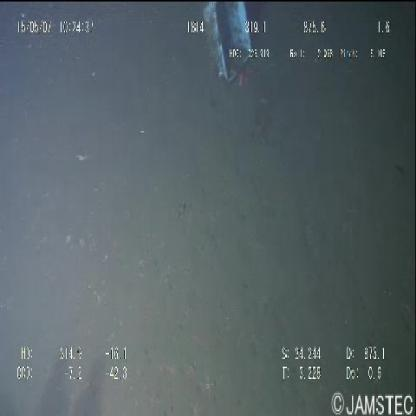Rác: (198, 1, 256, 91)
